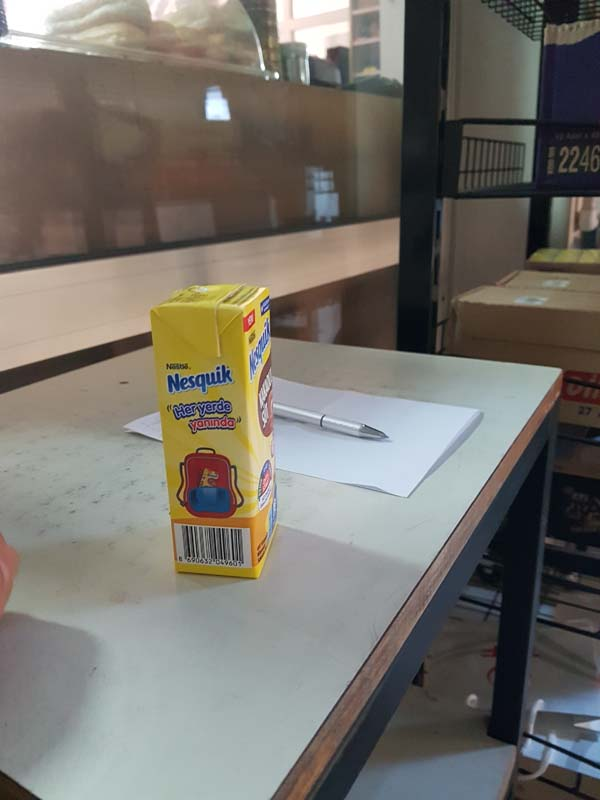nesquick200ml: (151, 281, 278, 582)
